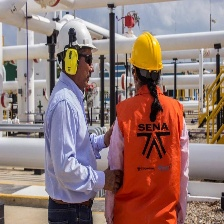helmet: (52, 20, 100, 58), (126, 32, 165, 74)
no-vest: (114, 93, 186, 224), (46, 83, 102, 204)
person: (112, 34, 182, 224), (48, 17, 105, 224)
